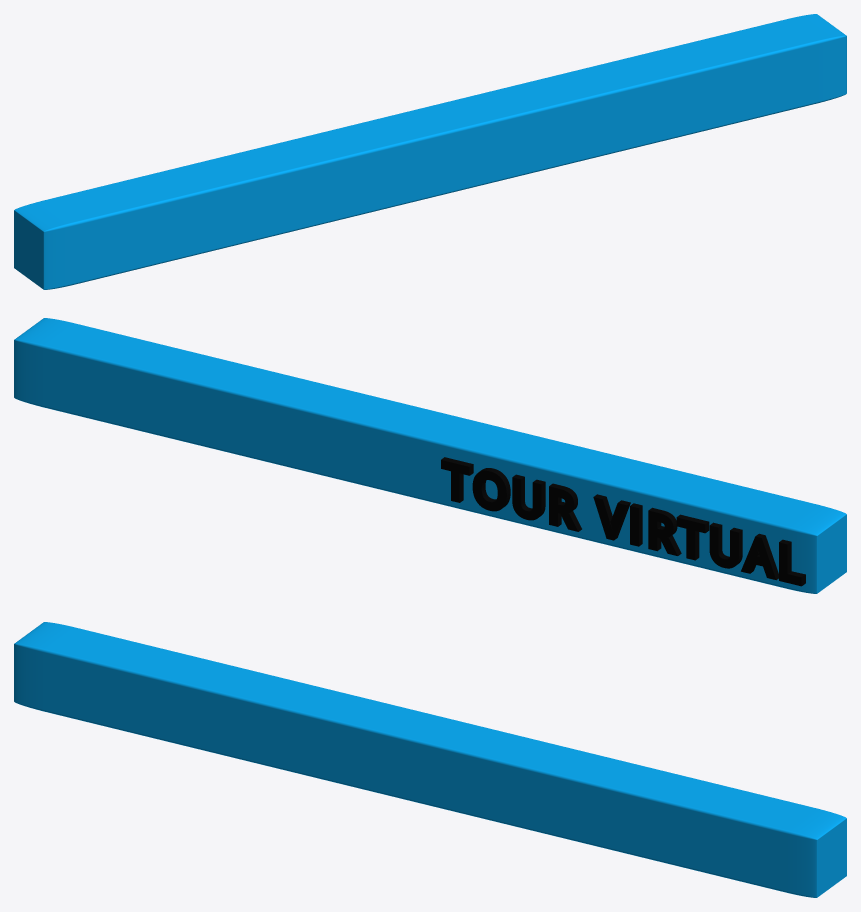
The model's file is tour.glb.
3 views of the same model, one above another, from view 1: azimuth 30°, elevation 25°; view 2: azimuth 150°, elevation 25°; view 3: azimuth 330°, elevation 25° (orthographic).
Visible parts, largest first — view 1: Box; view 2: Box, 3D Text - R (×2), 3D Text - U (×2), 3D Text - T (×2), 3D Text - O, 3D Text - A, 3D Text - V, 3D Text - L, 3D Text - I; view 3: Box.
Part boxes in pixels (x1,y1,x2,y2): Box: (14,14,846,289); Box: (14,318,846,593); 3D Text - R (×2): (549,483,681,555); 3D Text - U (×2): (512,474,742,568); 3D Text - T (×2): (441,457,709,560); 3D Text - O: (472,468,510,511); 3D Text - A: (741,533,778,580); 3D Text - V: (593,494,630,540); 3D Text - L: (779,539,805,586); 3D Text - I: (630,503,642,546); Box: (14,622,846,897).
Bounding box in the file's own units: 1.45 × 0.1081 × 0.1119.
